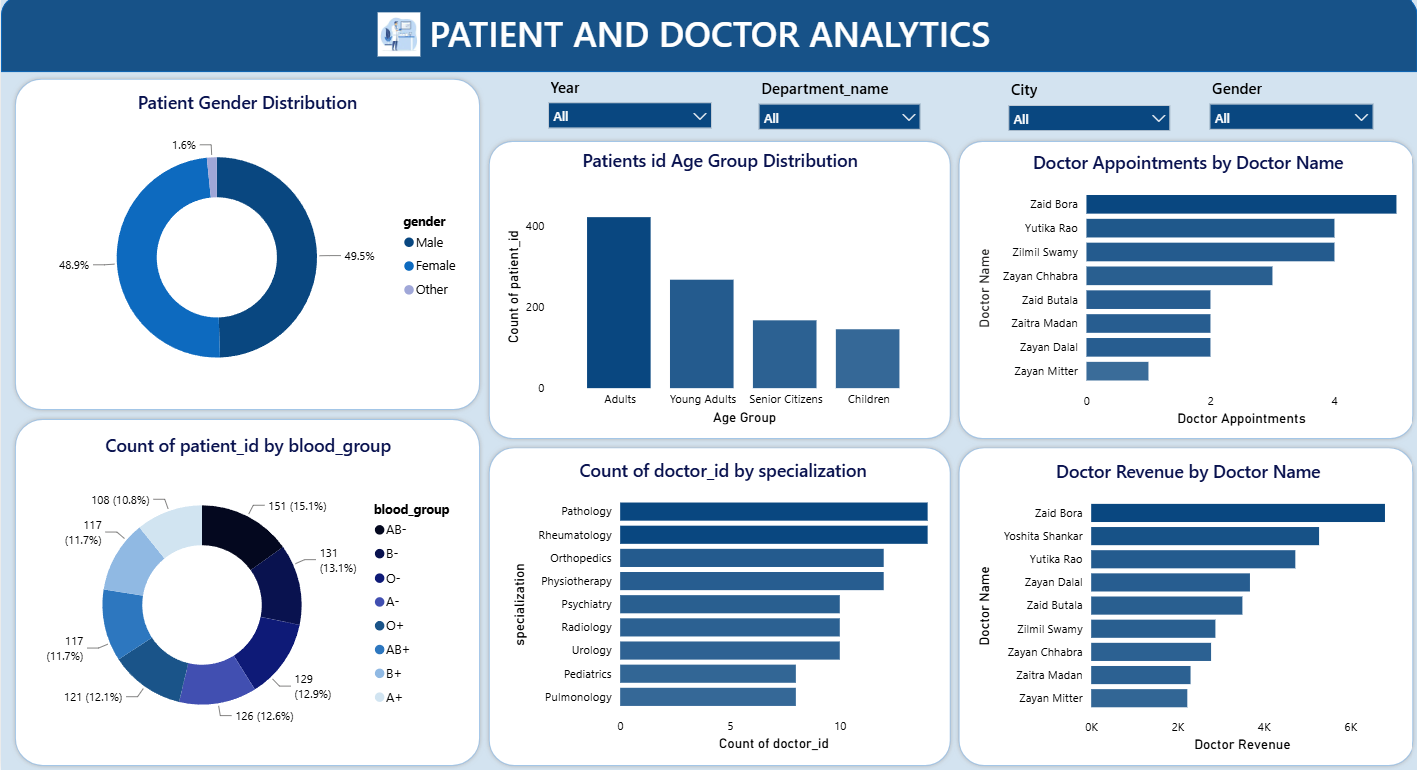

This screenshot's page, from the dashboard's own definition file:
{"tool":"powerbi","page":{"name":"Patient_and_Doctor_Analytics","canvas":[1500,820],"ordinal":1},"visuals":[{"type":"shape","box":[10,83.3,501.7,360],"z":0},{"type":"shape","box":[1008.3,473.3,491.7,346.7],"z":1000},{"type":"shape","box":[511.7,473.3,498.3,346.7],"z":2000},{"type":"shape","box":[10,443.3,501.7,376.7],"z":3000},{"type":"shape","box":[1008.3,148.3,491.7,325],"z":4000},{"type":"shape","box":[511.7,148.3,498.3,325],"z":5000},{"type":"donutChart","title":"Patient Gender Distribution","fields":{"Category":["healthcare_analytics_db patients.gender"],"Y":["CountNonNull(healthcare_analytics_db patients.patient_id)"]},"box":[25,100,470,328.3],"z":6000},{"type":"clusteredColumnChart","title":"Patients id Age Group Distribution","fields":{"Category":["healthcare_analytics_db patients.Age Group"],"Y":["CountNonNull(healthcare_analytics_db patients.patient_id)"]},"box":[528.3,161.7,465,296.7],"z":7000},{"type":"clusteredBarChart","fields":{"Category":["healthcare_analytics_db doctors.Doctor Name"],"Y":["Measures (2).Doctor Appointments"]},"box":[1026.7,163.3,458.3,296.7],"z":8000},{"type":"clusteredBarChart","fields":{"Category":["healthcare_analytics_db doctors.Doctor Name"],"Y":["Measures (2).Doctor Revenue"]},"box":[1026.7,490,458.3,315],"z":9000},{"type":"clusteredBarChart","fields":{"Category":["healthcare_analytics_db doctors.specialization"],"Y":["CountNonNull(healthcare_analytics_db doctors.doctor_id)"]},"box":[535,488.3,456.7,315],"z":10000},{"type":"donutChart","fields":{"Category":["healthcare_analytics_db patients.blood_group"],"Y":["CountNonNull(healthcare_analytics_db patients.patient_id)"]},"box":[25,463.3,471.7,338.3],"z":11000},{"type":"shape","box":[0,0,1500,80.6],"z":12000},{"type":"slicer","fields":{"Values":["Calendar.Year"]},"box":[568.3,80,193.3,65],"z":13000},{"type":"slicer","fields":{"Values":["healthcare_analytics_db departments.department_name"]},"box":[791.7,81.7,191.7,65],"z":14000},{"type":"slicer","fields":{"Values":["healthcare_analytics_db patients.city"]},"box":[1055,83.3,191.7,65],"z":15000},{"type":"slicer","fields":{"Values":["healthcare_analytics_db patients.gender"]},"box":[1268.3,81.7,193.3,65],"z":16000},{"type":"textbox","box":[358.3,8.3,783.3,63.3],"z":17000},{"type":"image","box":[398.3,13.3,45,55],"z":18000}]}

Visuals, with their boxes in screenshot pixels (x1, y1, x2, y2), scaled from the page's 1500x820 canvas onto the 1417x770 screenshot:
shape: BBox(9, 78, 483, 416)
shape: BBox(953, 444, 1416, 769)
shape: BBox(483, 444, 954, 769)
shape: BBox(9, 416, 483, 769)
shape: BBox(953, 139, 1416, 444)
shape: BBox(483, 139, 954, 444)
"Patient Gender Distribution" donutChart: BBox(24, 94, 468, 402)
"Patients id Age Group Distribution" clusteredColumnChart: BBox(499, 152, 938, 430)
clusteredBarChart - healthcare_analytics_db doctors.Doctor Name x Measures (2).Doctor Appointments: BBox(970, 153, 1403, 432)
clusteredBarChart - healthcare_analytics_db doctors.Doctor Name x Measures (2).Doctor Revenue: BBox(970, 460, 1403, 756)
clusteredBarChart - healthcare_analytics_db doctors.specialization x CountNonNull(healthcare_analytics_db doctors.doctor_id): BBox(505, 459, 937, 754)
donutChart - healthcare_analytics_db patients.blood_group x CountNonNull(healthcare_analytics_db patients.patient_id): BBox(24, 435, 469, 753)
shape: BBox(0, 0, 1416, 76)
slicer - Calendar.Year: BBox(537, 75, 719, 136)
slicer - healthcare_analytics_db departments.department_name: BBox(748, 77, 929, 138)
slicer - healthcare_analytics_db patients.city: BBox(997, 78, 1178, 139)
slicer - healthcare_analytics_db patients.gender: BBox(1198, 77, 1381, 138)
textbox: BBox(338, 8, 1078, 67)
image: BBox(376, 12, 419, 64)
